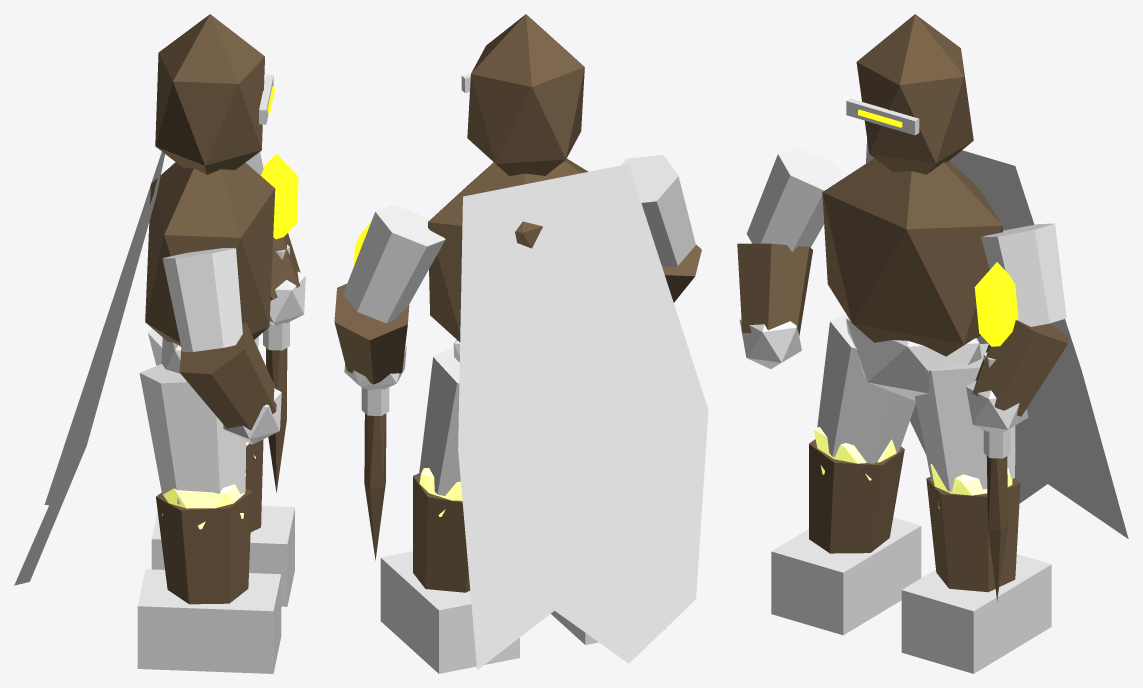
The model's file is fighter-wand-cloth.glb.
3 renders of one model, left to right at view 1: azimuth 30°, elevation 25°; view 2: azimuth 150°, elevation 25°; view 3: azimuth 270°, elevation 25°, orthographic.
Visible parts, largest first — view 1: Breastplate.007, Closed helm.007, Armored boot.014, Thigh.014, Greave.014, Torn crimson mantle.007, Arm.032, Gauntlet.014, Armored boot.015, Sword wand head, Sword shaft.002, Glove.015 (+7 smaller); view 2: Torn crimson mantle.007, Closed helm.007, Armored boot.015, Arm.033, Breastplate.007, Greave.015, Arm.032, Thigh.015, Gauntlet.015, Sword shaft.002, Gauntlet.014, Sword grip.007 (+2 smaller); view 3: Breastplate.007, Torn crimson mantle.007, Closed helm.007, Armored boot.015, Armored boot.014, Greave.014, Thigh.014, Greave.015, Thigh.015, Arm.032, Arm.033, Gauntlet.014 (+10 smaller).
Part boxes in pixels (x1,y1,x2,y2): Breastplate.007: (145,162,275,346); Closed helm.007: (155,14,264,174); Armored boot.014: (137,569,281,673); Thigh.014: (139,364,246,504); Greave.014: (156,489,251,604); Torn crimson mantle.007: (14,152,164,585); Arm.032: (162,248,242,351); Gauntlet.014: (179,322,276,430); Armored boot.015: (151,506,294,606); Sword wand head: (261,153,298,239); Sword shaft.002: (266,348,287,492); Glove.015: (269,271,305,325); Torn crimson mantle.007: (458,164,708,669); Closed helm.007: (467,14,584,176); Armored boot.015: (380,551,519,673); Arm.033: (343,204,445,323); Breastplate.007: (428,158,588,342); Greave.015: (413,473,470,592); Arm.032: (621,154,695,267); Thigh.015: (419,347,460,495); Gauntlet.015: (334,283,409,384); Sword shaft.002: (364,413,386,560); Gauntlet.014: (662,244,701,302); Sword grip.007: (361,387,389,415); Breastplate.007: (822,158,1002,356); Torn crimson mantle.007: (866,138,1128,538); Closed helm.007: (856,14,973,174); Armored boot.015: (901,554,1051,673); Armored boot.014: (771,517,921,635); Greave.014: (809,439,904,553); Thigh.014: (817,314,915,463); Greave.015: (926,477,1020,592); Thigh.015: (914,343,1015,491); Arm.032: (746,148,842,251); Arm.033: (981,223,1066,326); Gauntlet.014: (737,243,812,335).
Size of the model in its own units: 1.7 by 3.19 by 1.87.
